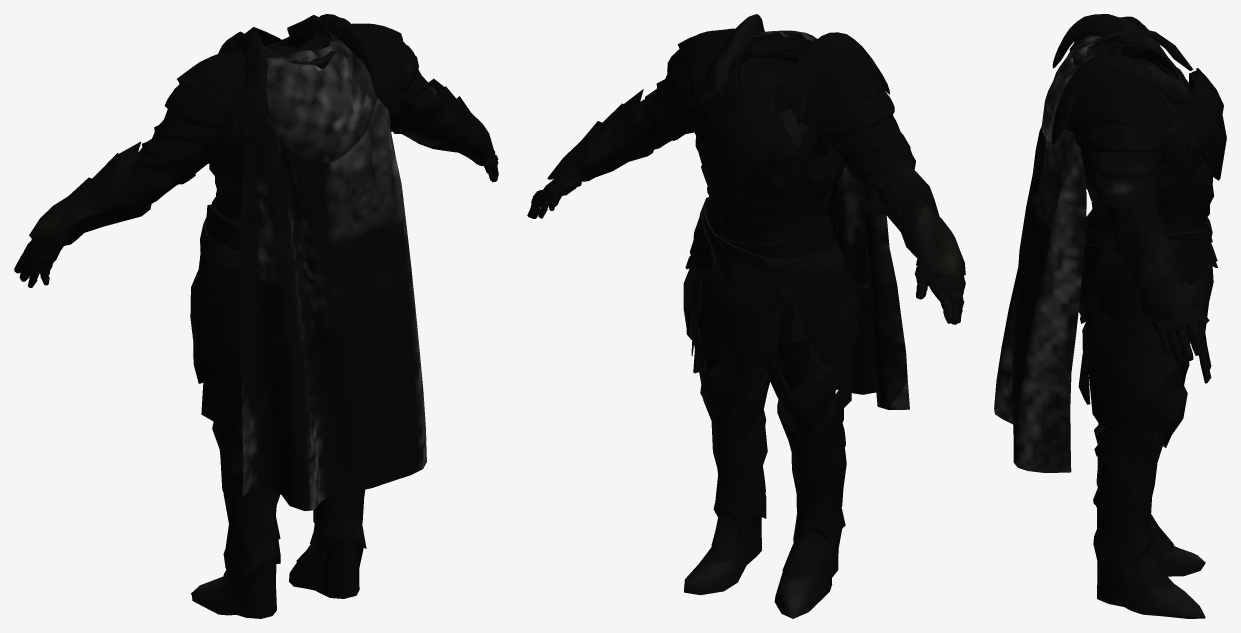
3 renders of one model, left to right at view 1: azimuth 30°, elevation 25°; view 2: azimuth 150°, elevation 25°; view 3: azimuth 270°, elevation 25°, orthographic. The views are drawn at different scales.
Visible parts, largest first — view 1: mesh_0; view 2: mesh_0; view 3: mesh_0.
Part boxes in pixels (x1=…): mesh_0: x1=14, y1=14, x2=498, y2=618; mesh_0: x1=527, y1=14, x2=965, y2=618; mesh_0: x1=994, y1=14, x2=1226, y2=618.
Size of the model in its own units: 54.66 by 66.18 by 25.04.
Materials: 1 (1 with a texture image).
